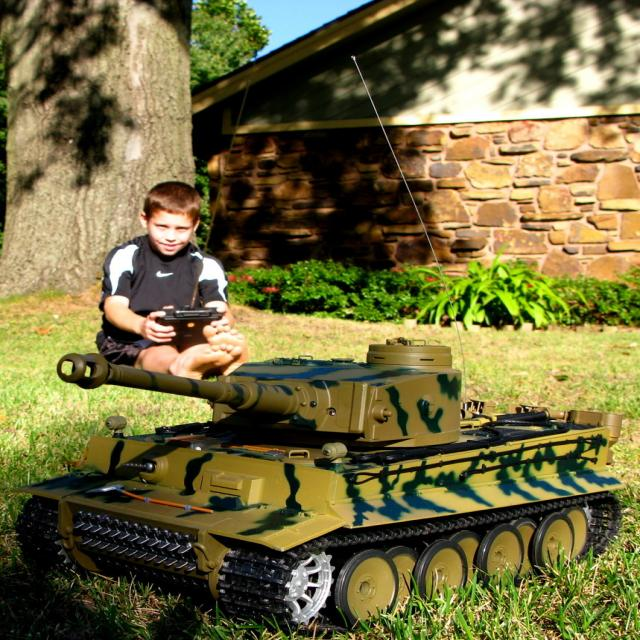tank: (11, 54, 628, 630)
